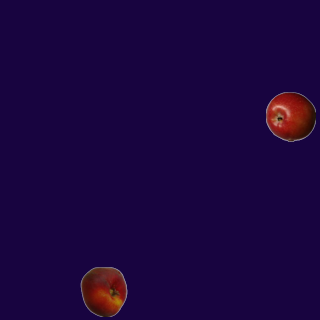Apple Braeburn: (265, 91, 315, 141)
Nectarine Flat: (78, 266, 128, 316)
